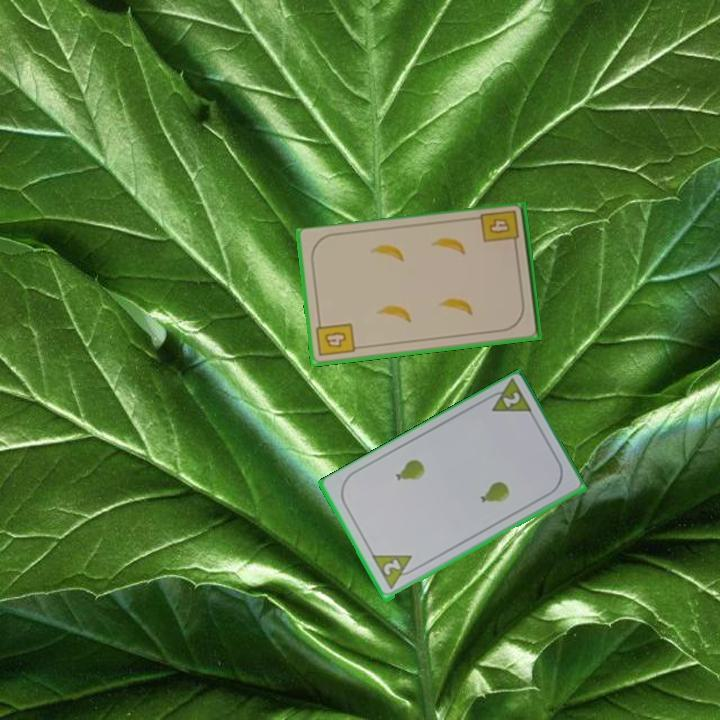2p: (369, 551, 421, 594), (481, 377, 535, 418)
4b: (477, 207, 522, 252), (313, 317, 358, 359)
